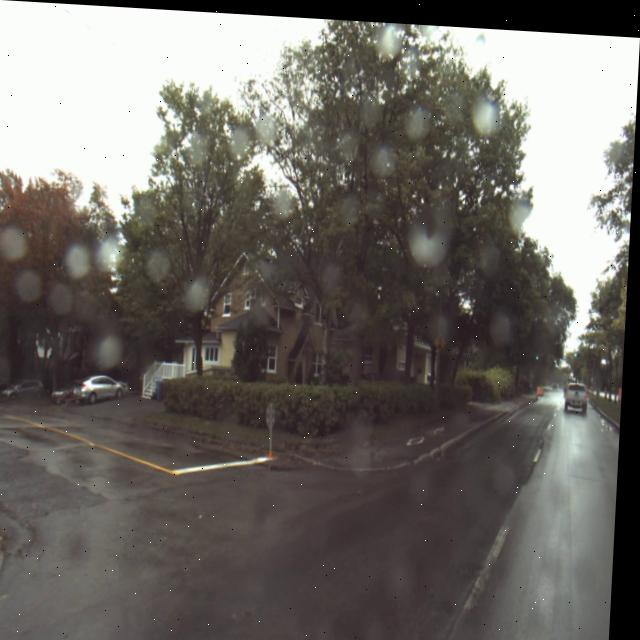car: (77, 372, 130, 406), (6, 376, 49, 404), (567, 375, 592, 408), (55, 379, 80, 404)
trafficLight-Green: (577, 344, 582, 351), (539, 347, 544, 354)
